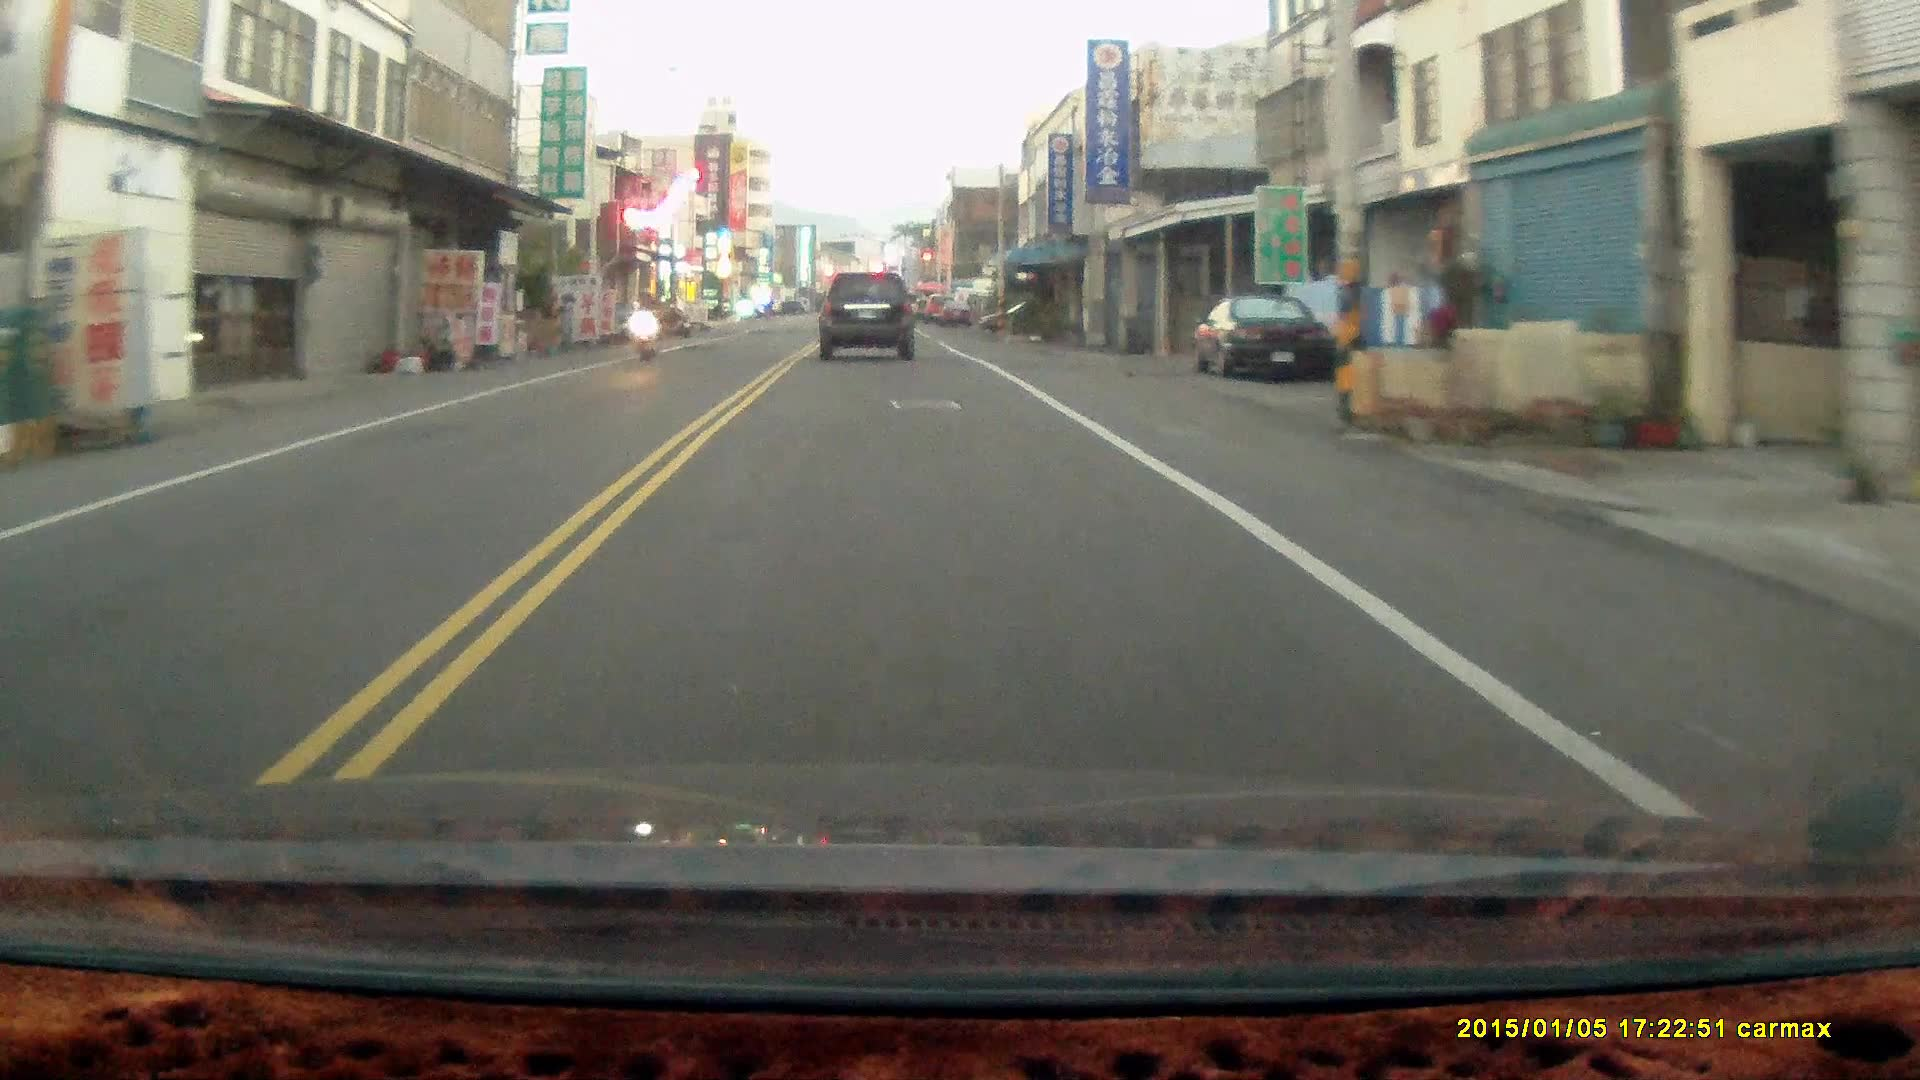rider: (633, 286, 663, 360)
vehicle: (1194, 296, 1332, 384), (820, 273, 918, 362)
